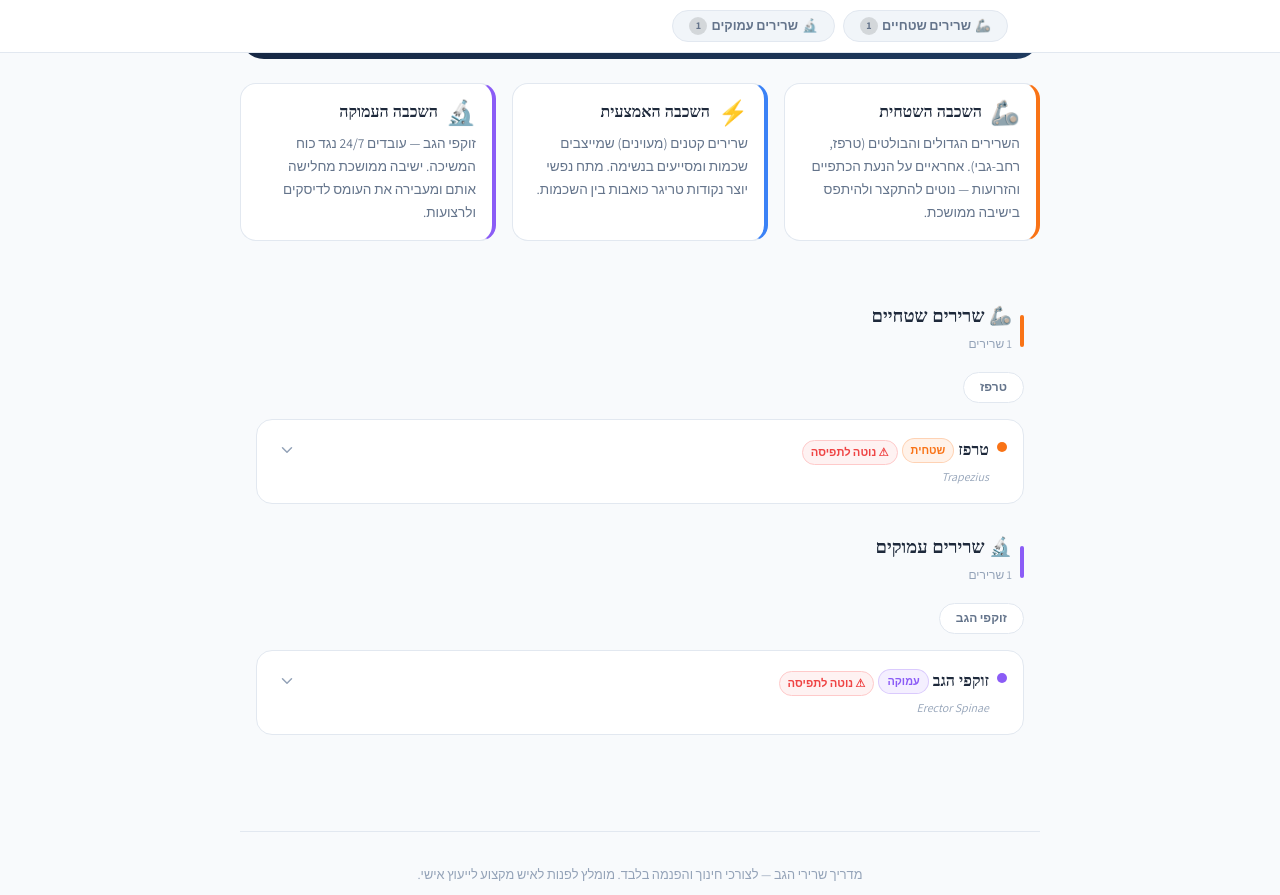
it: MuscleCard — stretch section › primary stretch title is visible after expanding (trapezius)
The image size is (1280, 895).
(page scrolled)
Click the heading "טרפז": (974, 450) [958,440,989,461]
(page scrolled)
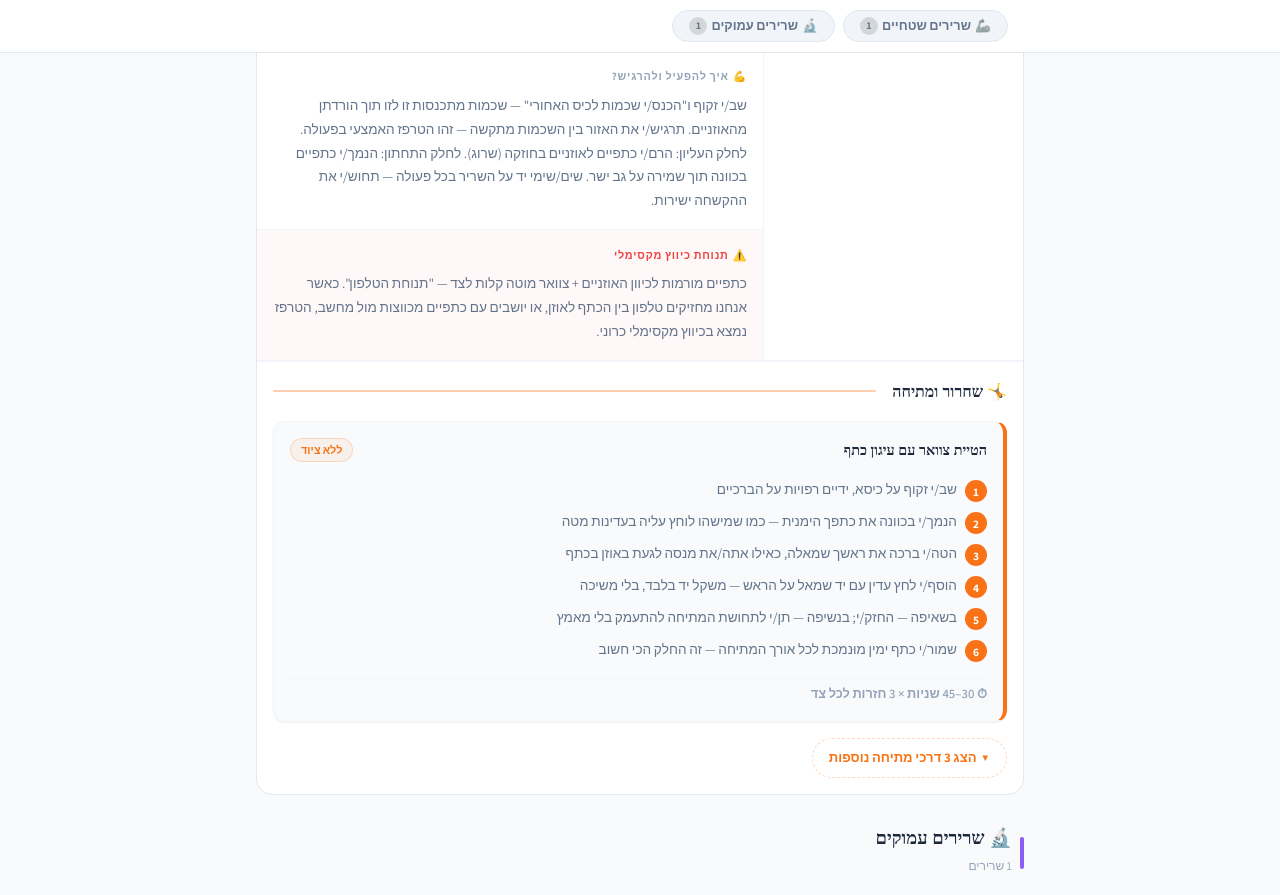
Expected: the heading "הטיית צוואר עם עיגון כתף" is shown, [844,438,987,462]
